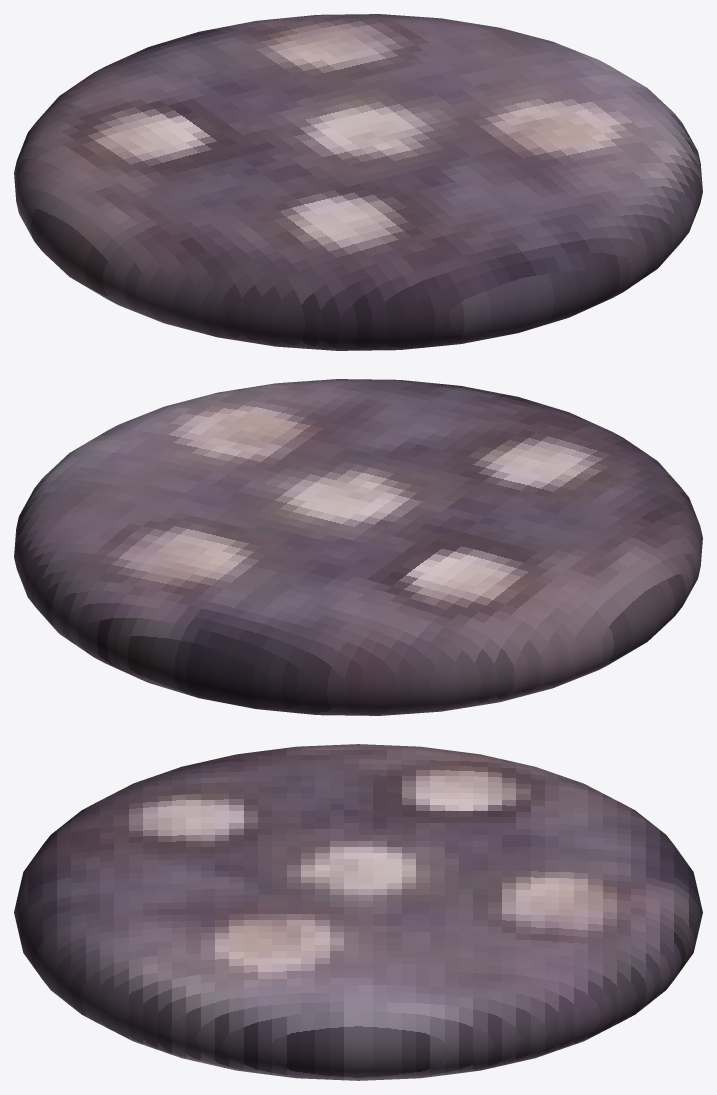
File: BlackPiece.obj
3 renders of one model, top to bottom at view 1: azimuth 30°, elevation 25°; view 2: azimuth 150°, elevation 25°; view 3: azimuth 270°, elevation 25°, orthographic.
Parts seen in each view (by area): view 1: Black_Piece_Sphere.001; view 2: Black_Piece_Sphere.001; view 3: Black_Piece_Sphere.001.
Part boxes in pixels (x1,y1,x2,y2): Black_Piece_Sphere.001: (14, 14, 702, 350); Black_Piece_Sphere.001: (14, 379, 702, 715); Black_Piece_Sphere.001: (14, 744, 702, 1080).
Bounding box in the file's own units: 0.5664 × 0.0863 × 0.5664.
Materials: 1 (1 with a texture image).
